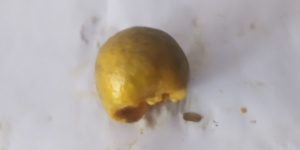BAD: (95, 26, 194, 124)
